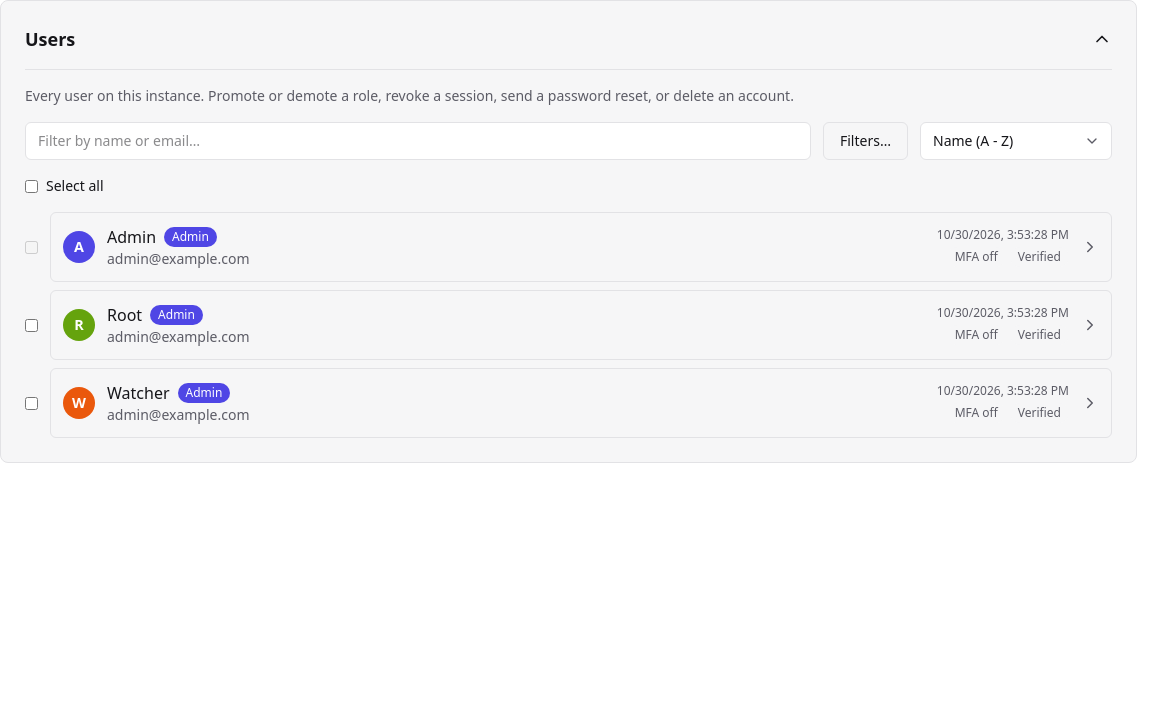
Test case: UsersPanel › keeps a selection when the row it applies to is filtered out of view, and reports it as hidden
The width and height of the screenshot is (1152, 720).
Expected: the text "Watcher" is shown, [107,381,170,405]
Click the checkbox named "Select Watcher" in the row of "Watcher" at (32, 403), box [25,396,38,410]
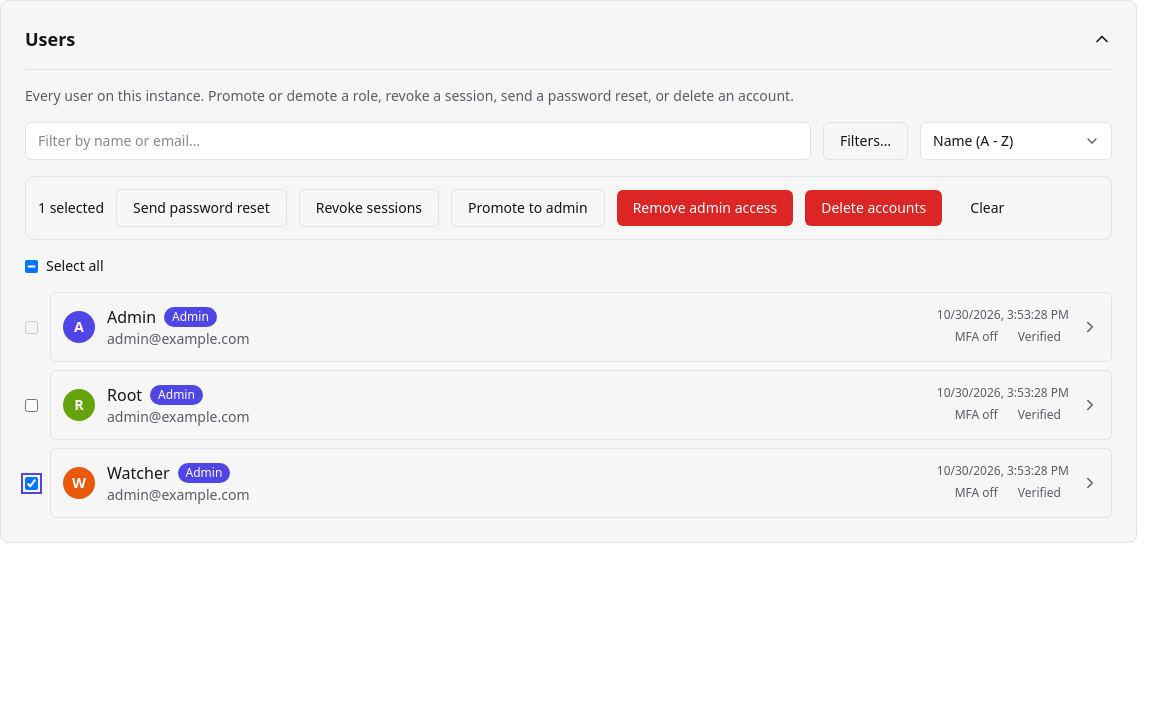
Result: the text "1 selected" is shown at [38,198,104,218]
Narrow the filter to Root — Watcher (still selected) drops out of view.
Type "root" into the search field named "Filter users" at (418, 141), box [25,122,811,160]
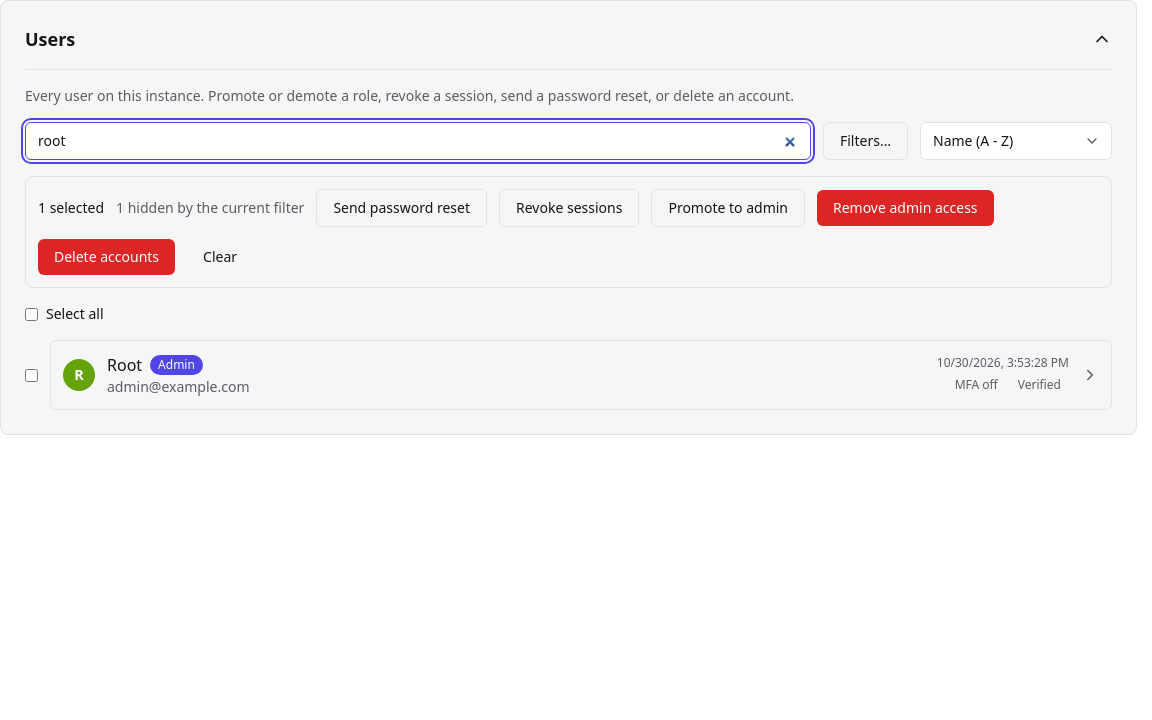
Expected: the text "Root" is shown, [107,353,142,377]
Result: the text "1 selected" is shown at [38,198,104,218]
Result: the text "1 hidden by the current filter" is shown at [116,198,304,218]
